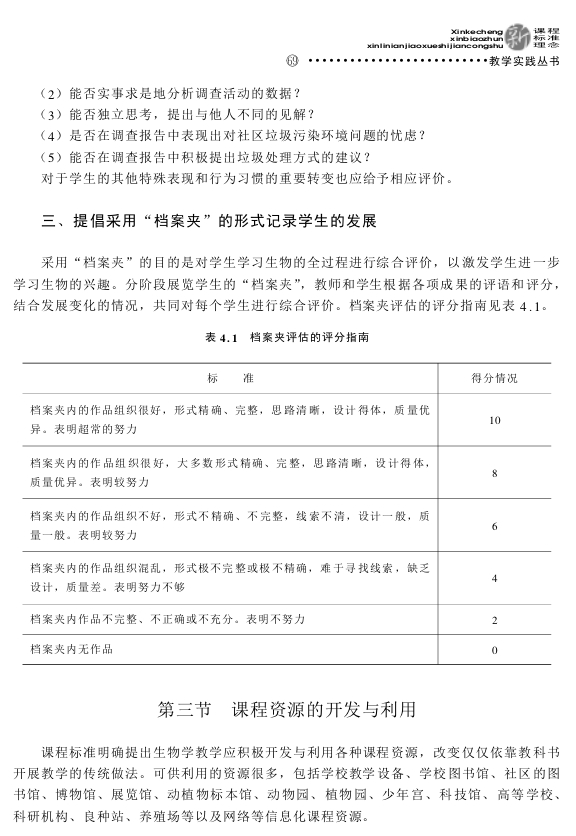table: (22, 362, 550, 664)
